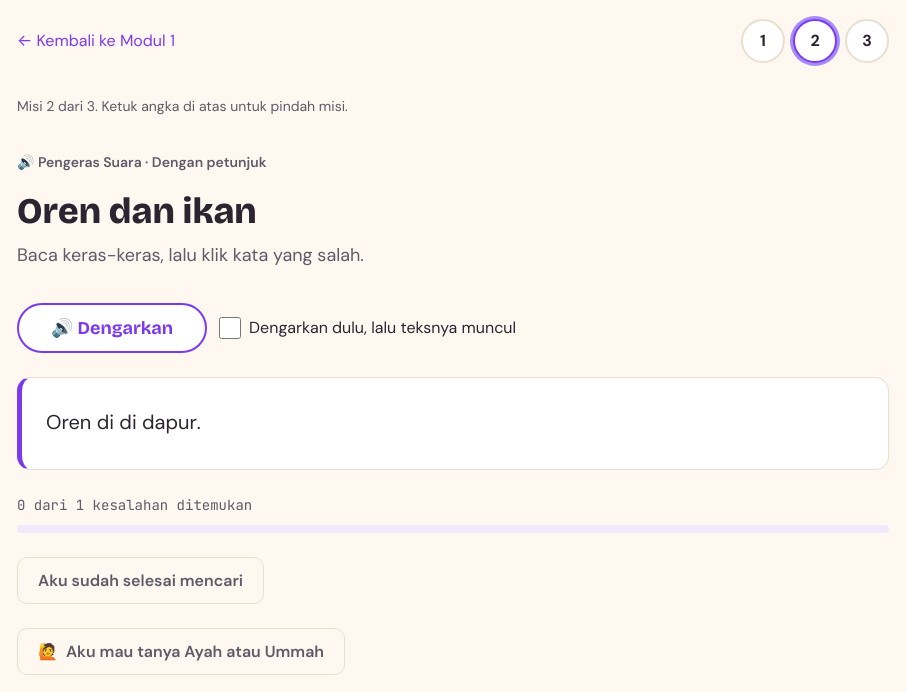
it: Misi: Contoh dari Oren, bantuan memudar, dan suara (spec 075 K1) › tombol 🔊 membacakan teks dengan suara Indonesia; "dengarkan dulu" menyembunyikan teks sampai selesai
This screenshot has width=906, height=692.
Click the button "🔊 Dengarkan": (112, 328) [17,303,207,353]
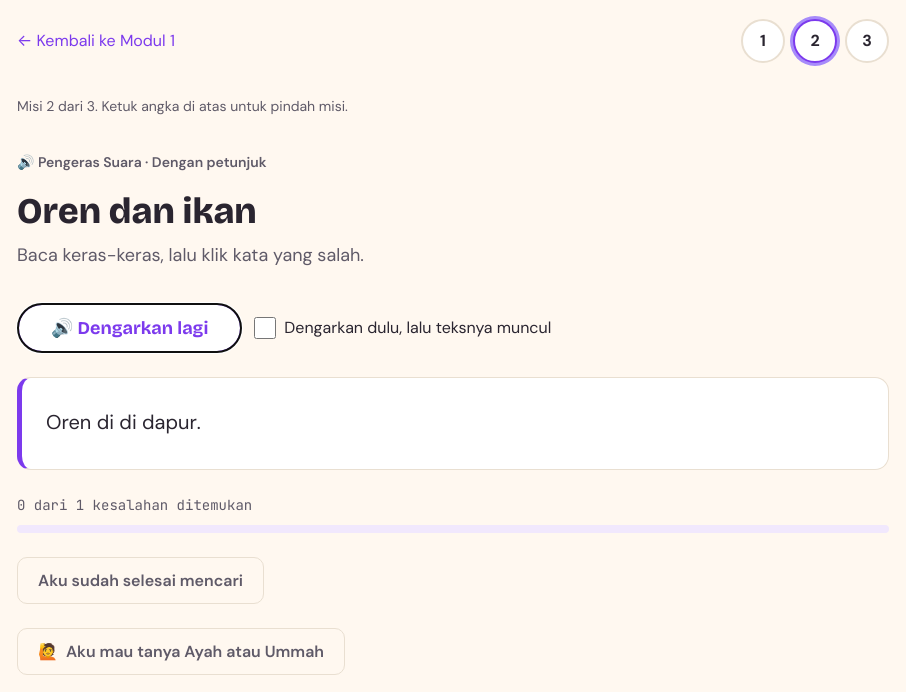
Expected: the element showing "Oren di di dapur ." is shown, [17,377,889,470]
Click the checkbox labelled "Dengarkan dulu, lalu teksnya muncul": (265, 328) [254,317,276,339]
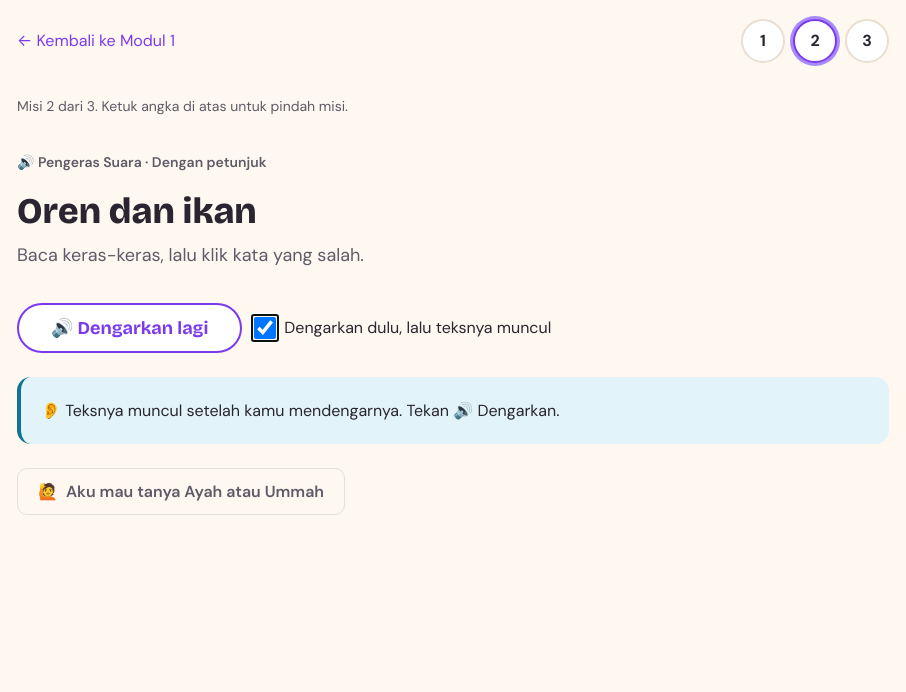
Now the text "👂 Teksnya muncul setelah kamu mendengarnya. Tekan 🔊 Dengarkan." is shown, box [17,377,889,444]
Click the button "🔊 Dengarkan lagi": (130, 328) [17,303,242,353]
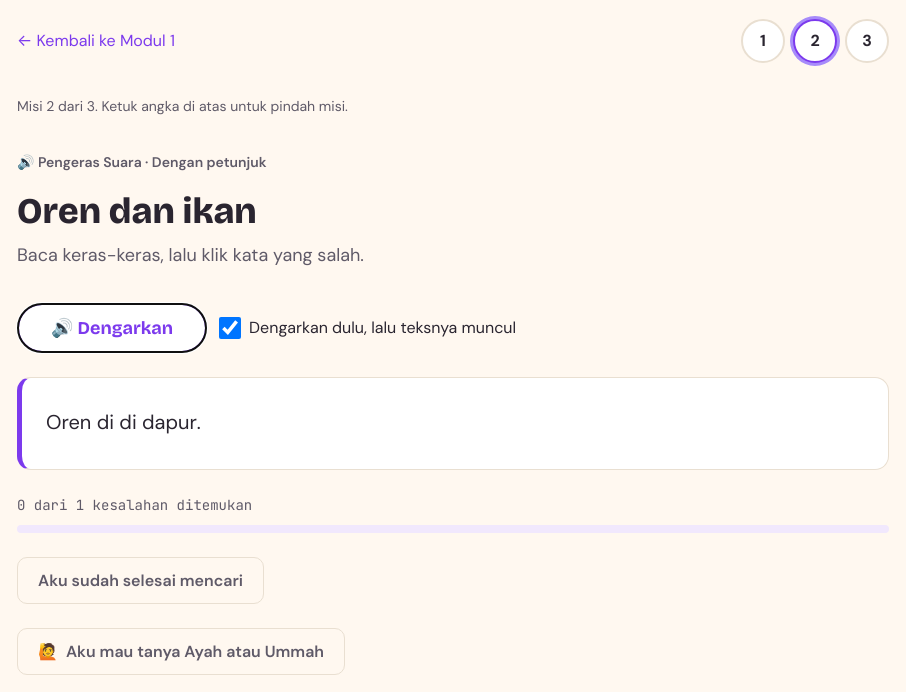
Now the number of buttons "di" is 2, box [97,402,114,445]; [119,402,137,445]
